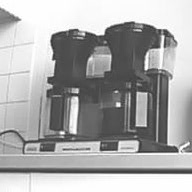not empty coffee: (97, 81, 158, 137)
